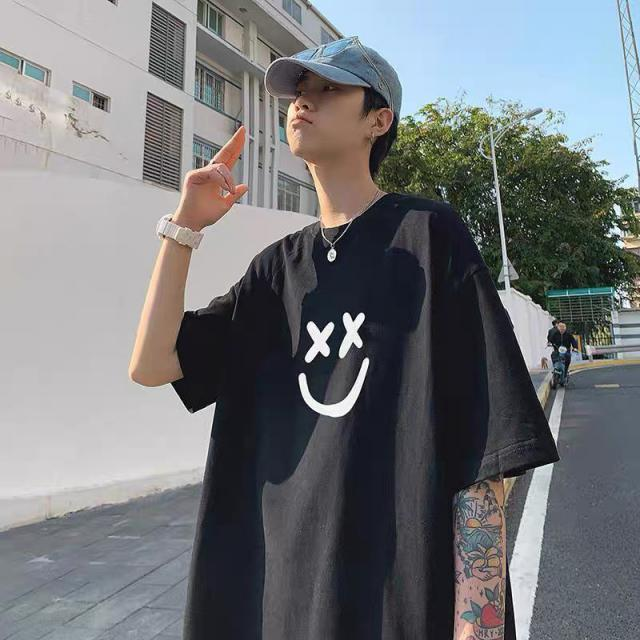Shirt: (166, 187, 561, 639)
